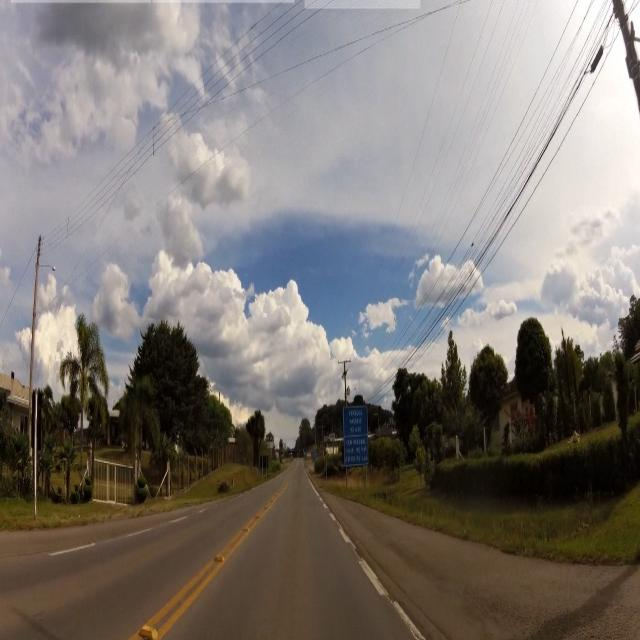LOC-6: (342, 406, 368, 468)
